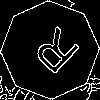R: (25, 25, 82, 83)
